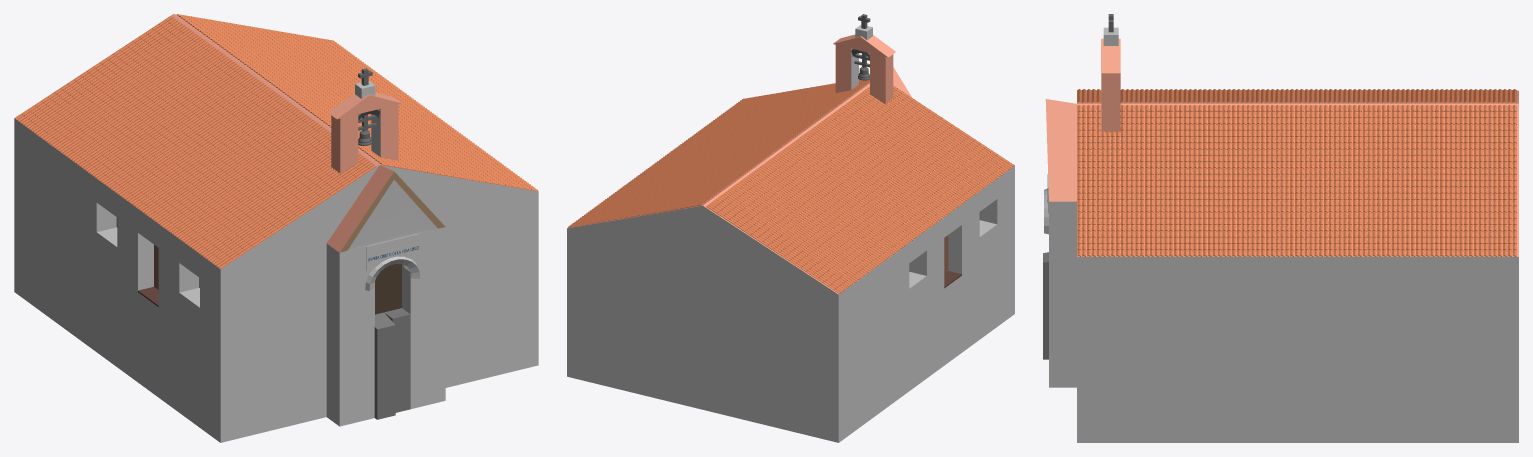
Rendered from 13_Ermita_Veracruz_Sergio_Toscano.fbx.
3 renders of one model, left to right at view 1: azimuth 30°, elevation 25°; view 2: azimuth 150°, elevation 25°; view 3: azimuth 270°, elevation 25°, orthographic. The views are drawn at different scales.
Parts seen in each view (by area): view 1: Cube.085, Cube.003, Cube.038, Torus.012; view 2: Cube.085, Cube.003, Cube.038; view 3: Cube.085, Cube.003, Cube.038.
Part boxes in pixels (<box>): Cube.085: <box>14,14,538,442</box>; Cube.003: <box>15,14,537,268</box>; Cube.038: <box>328,68,401,173</box>; Torus.012: <box>365,256,420,290</box>; Cube.085: <box>567,67,1014,442</box>; Cube.003: <box>568,79,1014,293</box>; Cube.038: <box>833,14,895,104</box>; Cube.085: <box>1043,90,1518,442</box>; Cube.003: <box>1077,89,1516,256</box>; Cube.038: <box>1101,14,1120,132</box>.
Size of the model in its own units: 2207 by 2136 by 2665.
